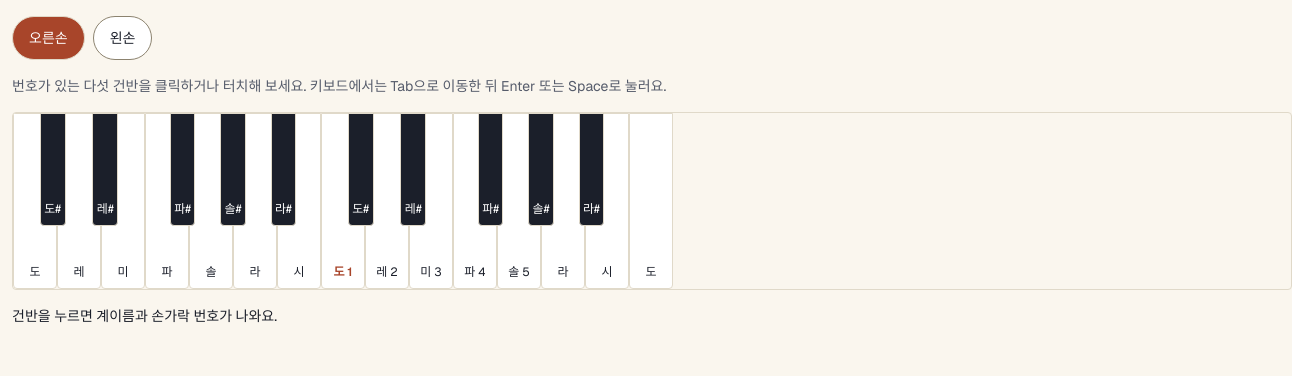
announces an audio failure directly below the keyboard and clears it after a successful retry
Click the button named "오른손 가운데 도 (4옥타브), 손가락 1 엄지" at (343, 201), box [321,113,365,289]
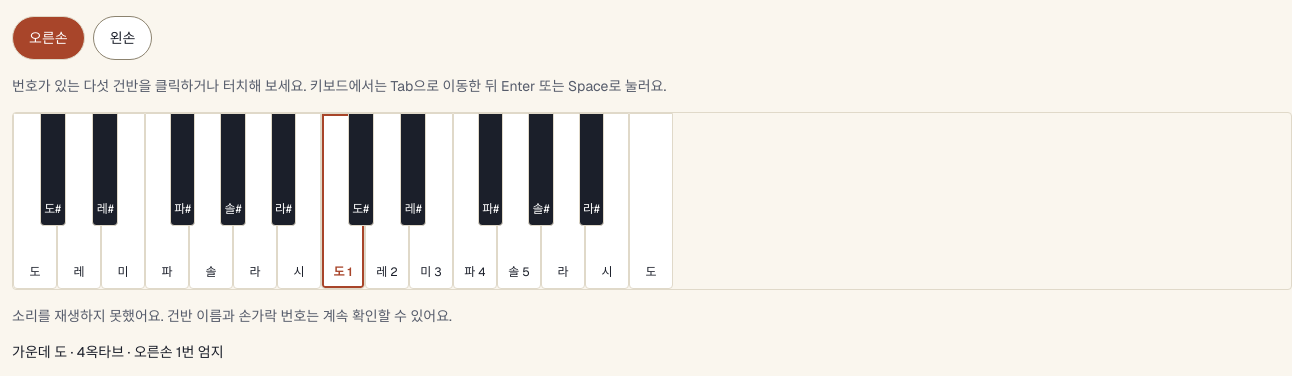
Check: the message named "소리 재생 상태" shows "소리를 재생하지 못했어요.", box [12,307,452,325]
Click the button named "오른손 가운데 도 (4옥타브), 손가락 1 엄지" at (343, 201), box [321,113,365,289]
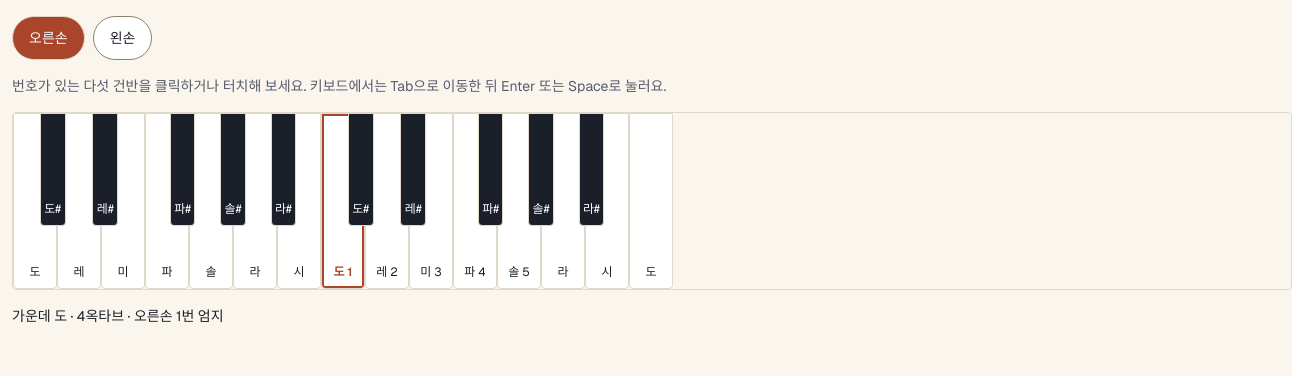
Check: the text "소리를 재생하지 못했어요" is gone
